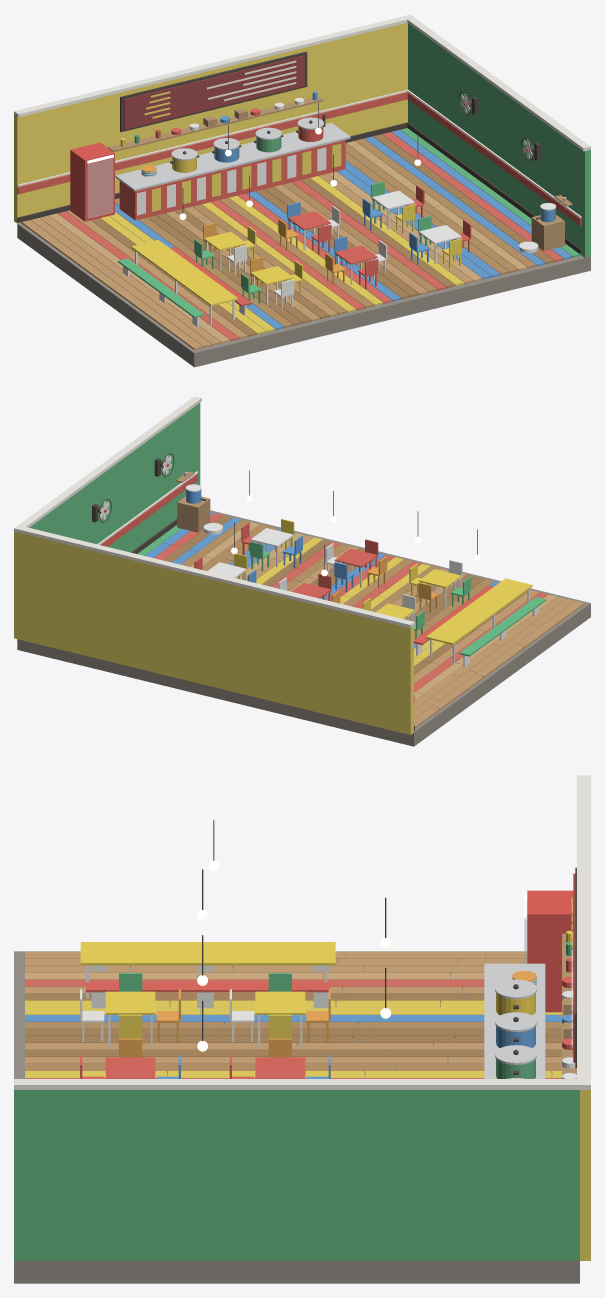
Rendered from bukka.glb.
3 views of the same model, one above another, from view 1: azimuth 30°, elevation 25°; view 2: azimuth 150°, elevation 25°; view 3: azimuth 270°, elevation 25° (orthographic). The views are drawn at different scales.
Parts seen in each view (by area): view 1: WallYellow, WallGreen, Slab, WoodN1, WoodN0, WoodN2, Red, Trim, WoodC2, WoodC3, Board, WoodC0 (+19 smaller); view 2: WallYellow, WallGreen, Slab, WoodN1, Trim, WoodN0, TopYellow, WoodN2, WoodC2, Chair3, WoodC0, WoodN3 (+12 smaller); view 3: WallGreen, Slab, WoodN1, WoodN2, Trim, TopYellow, WoodC0, WoodN0, Aluminium, Fridge, WoodN3, WoodC2 (+13 smaller).
Part boxes in pixels (box(x1,y1,x2,y2)): WallYellow: box(14, 22, 407, 223); WallGreen: box(408, 23, 590, 257); Slab: box(17, 223, 590, 367); WoodN1: box(21, 173, 473, 349); WoodN0: box(115, 138, 536, 327); WoodN2: box(91, 134, 554, 336); Red: box(17, 92, 581, 225); Trim: box(14, 14, 590, 217); WoodC2: box(58, 132, 563, 340); WoodC3: box(115, 130, 572, 329); Board: box(124, 55, 304, 129); WoodC0: box(100, 176, 464, 334); WallYellow: box(14, 531, 413, 734); WallGreen: box(29, 403, 200, 552); Slab: box(17, 510, 590, 746); WoodN1: box(246, 535, 584, 728); Trim: box(14, 396, 414, 694); WoodN0: box(181, 520, 493, 639); TopYellow: box(376, 569, 532, 644); WoodN2: box(163, 515, 529, 674); WoodC2: box(154, 513, 547, 692); Chair3: box(250, 541, 545, 656); WoodC0: box(256, 537, 445, 666); WoodN3: box(190, 522, 556, 700); WallGreen: box(14, 1090, 579, 1260); Slab: box(14, 951, 579, 1283); WoodN1: box(25, 951, 561, 1066); WoodN2: box(25, 993, 561, 1058); Trim: box(14, 775, 590, 1089); TopYellow: box(80, 942, 335, 1014); WoodC0: box(25, 1000, 561, 1077); WoodN0: box(25, 1022, 561, 1073); Aluminium: box(484, 963, 545, 1078); Fridge: box(527, 890, 573, 1012); WoodN3: box(25, 972, 484, 981); WoodC2: box(25, 979, 561, 1078).
Size of the model in its own units: 13.2 by 3.95 by 10.4.
